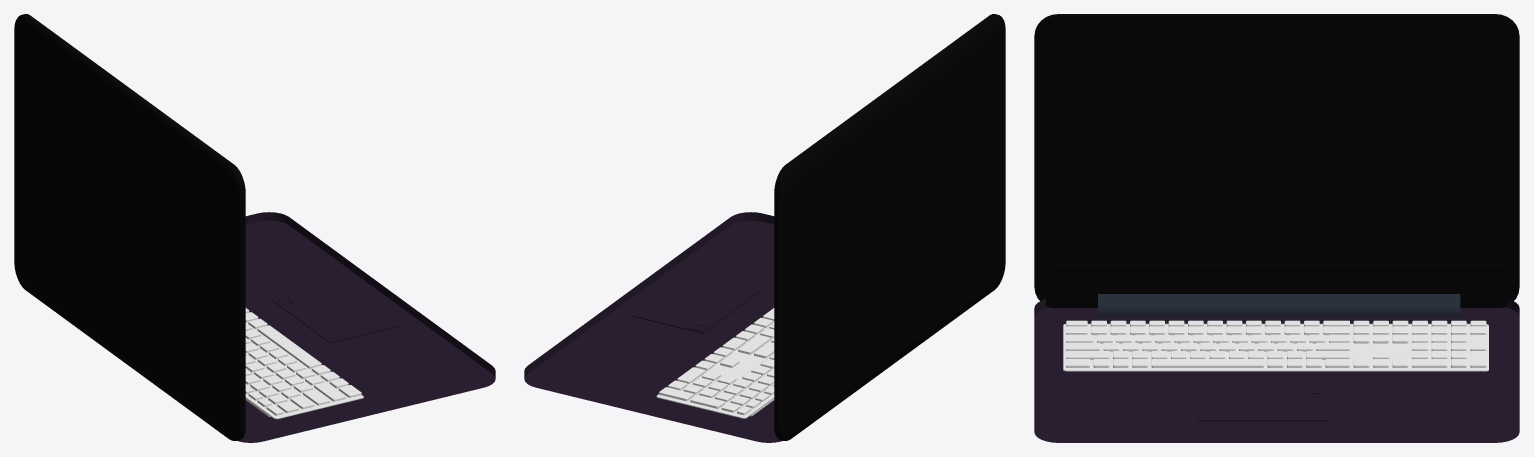
Rendered from Laap1.glb.
3 renders of one model, left to right at view 1: azimuth 30°, elevation 25°; view 2: azimuth 150°, elevation 25°; view 3: azimuth 270°, elevation 25°, orthographic. The views are drawn at different scales.
Visible parts, largest first — view 1: Cube, Cube.001, node_id51.001; view 2: Cube, Cube.001, node_id51.001; view 3: Cube, Cube.001, node_id51.001.
Boxes of the visible parts, <box> form: Cube: <box>14,14,245,440</box>; Cube.001: <box>237,212,495,442</box>; node_id51.001: <box>245,308,363,419</box>; Cube: <box>774,14,1005,440</box>; Cube.001: <box>524,212,782,442</box>; node_id51.001: <box>656,308,774,418</box>; Cube: <box>1034,14,1519,317</box>; Cube.001: <box>1034,299,1519,442</box>; node_id51.001: <box>1063,320,1488,371</box>.
Size of the model in its own units: 0.2449 by 0.243 by 0.36.
